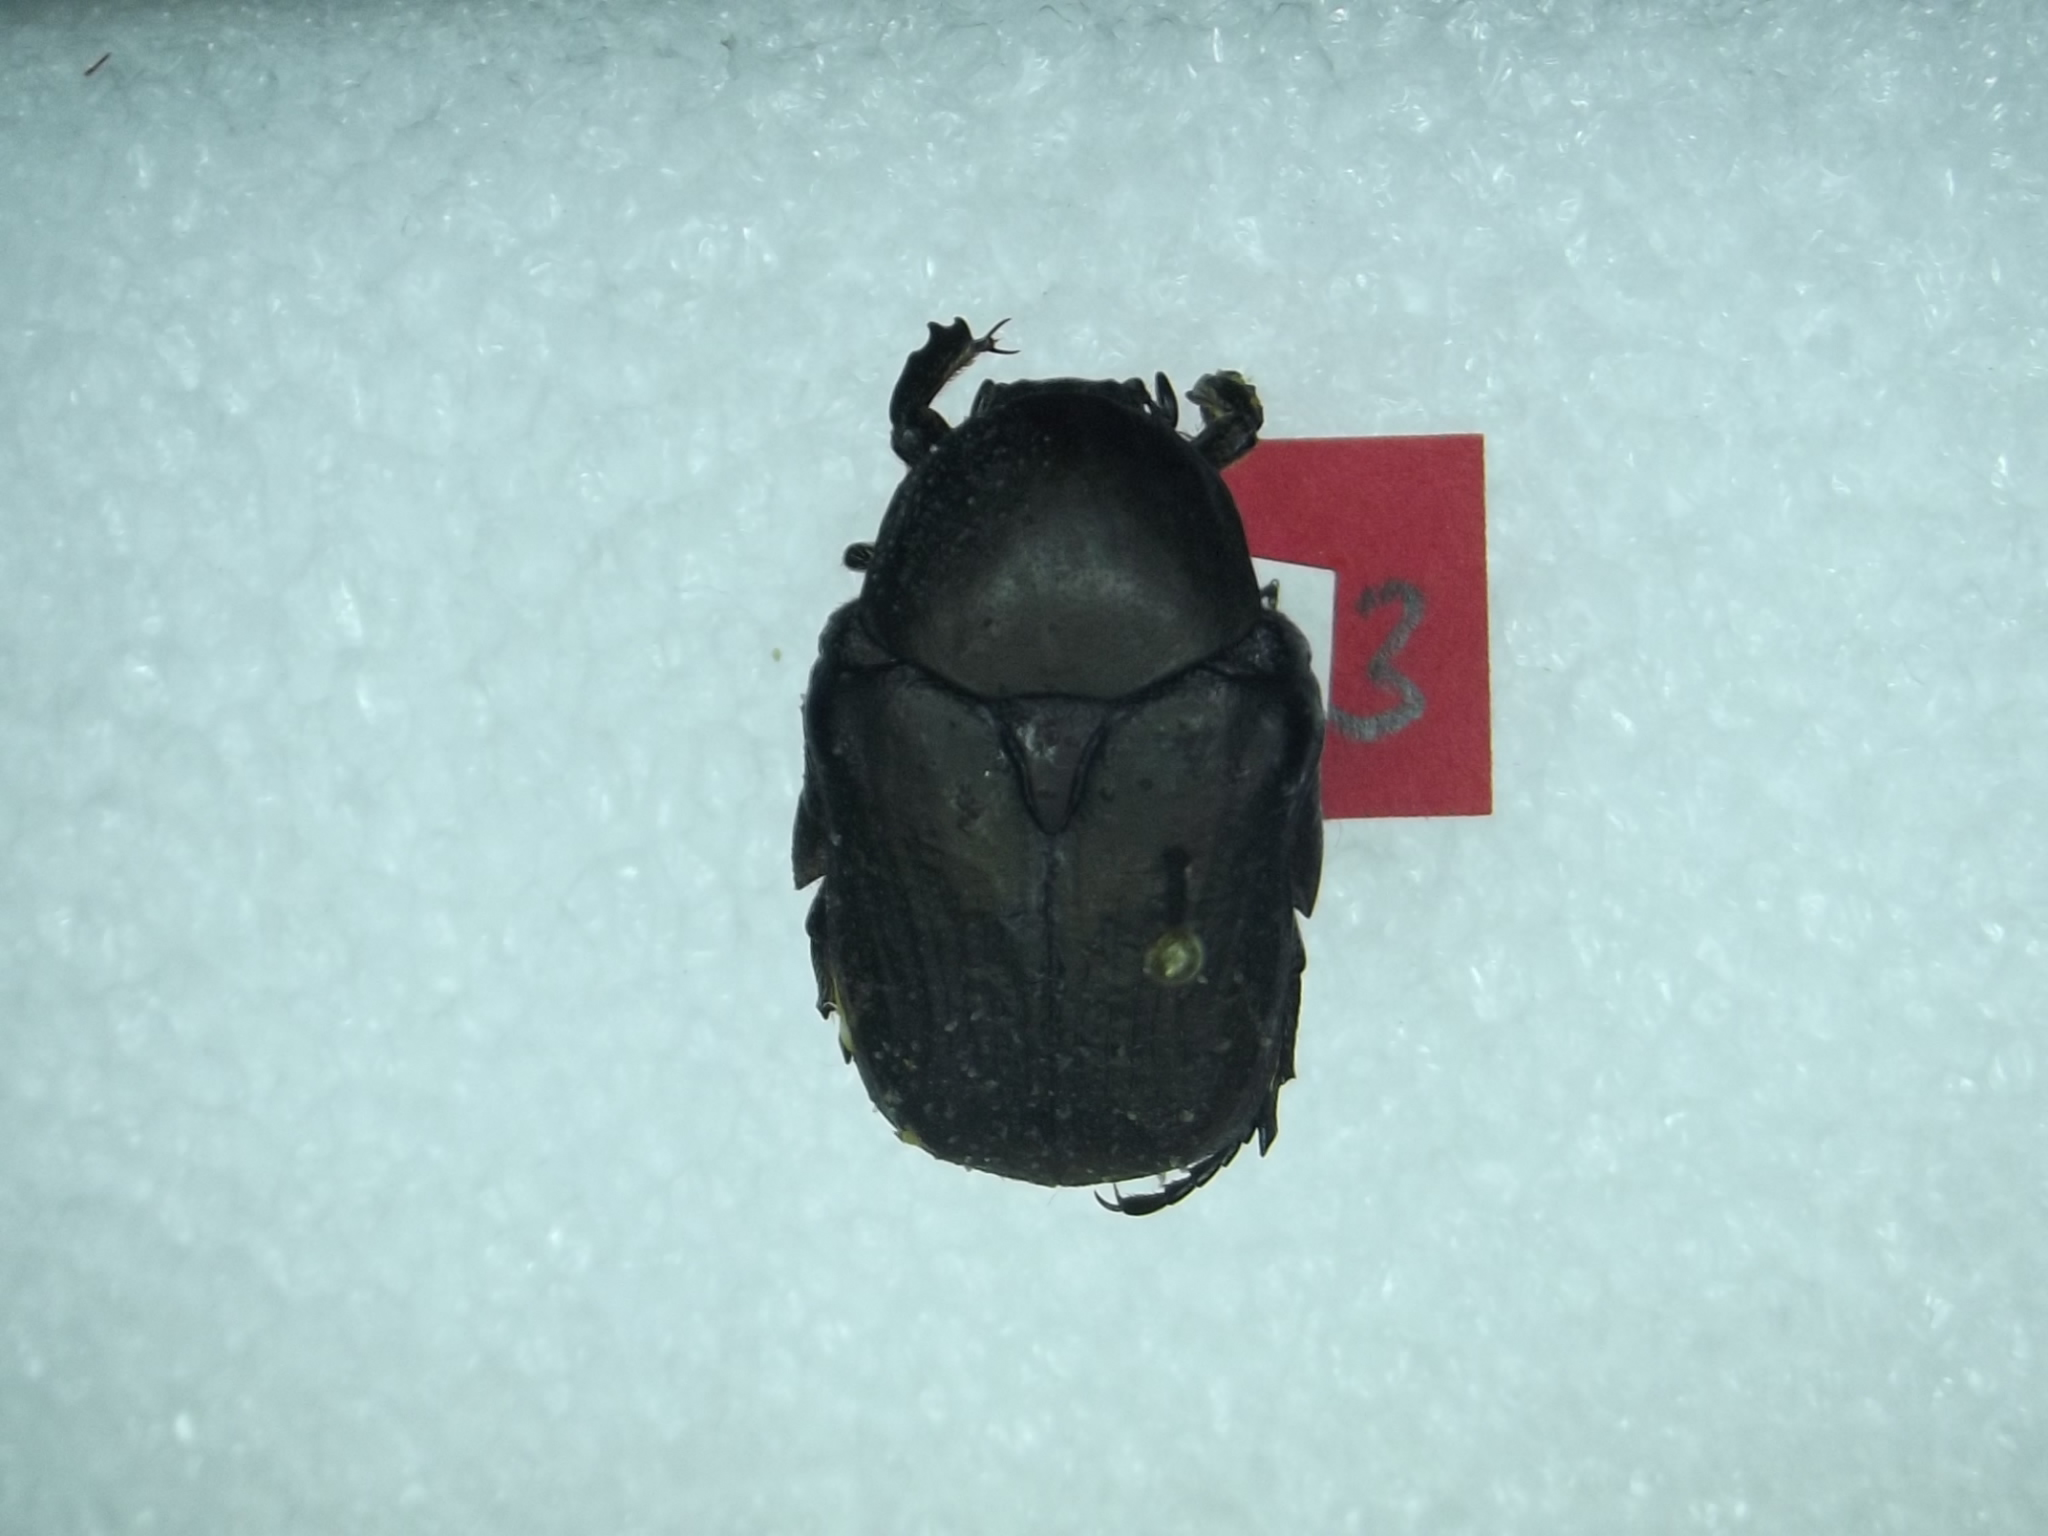Protaetia_oblonga: (780, 286, 1335, 1226)
